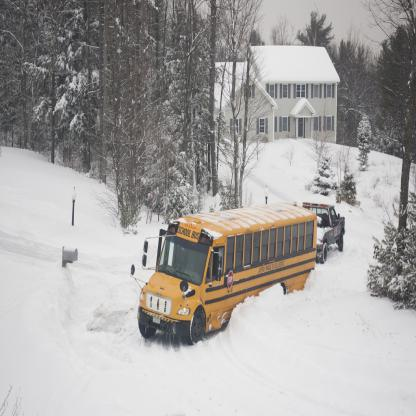Bus: (130, 202, 317, 346)
